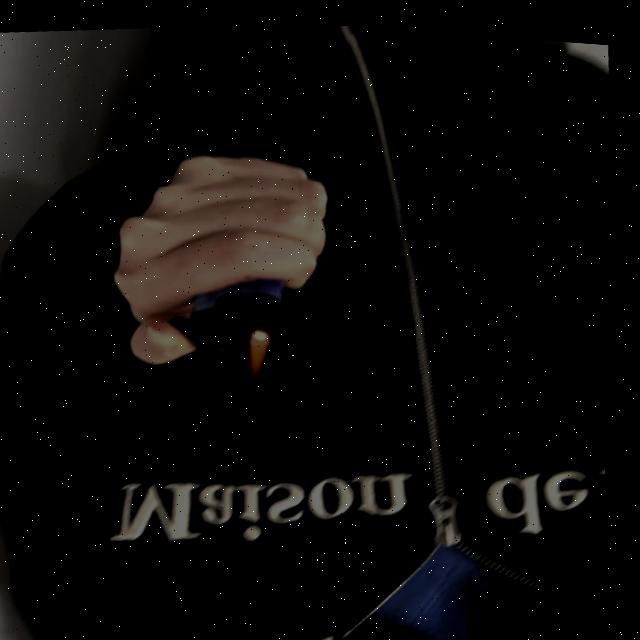Fire: (245, 320, 285, 383)
